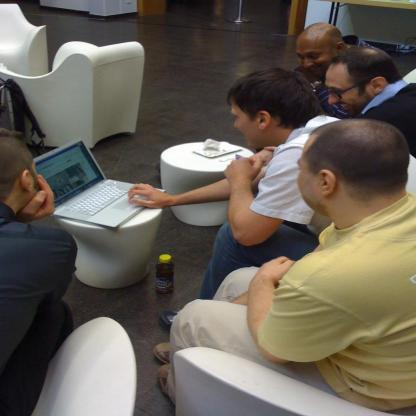board: (24, 134, 157, 226), (155, 253, 174, 296)
